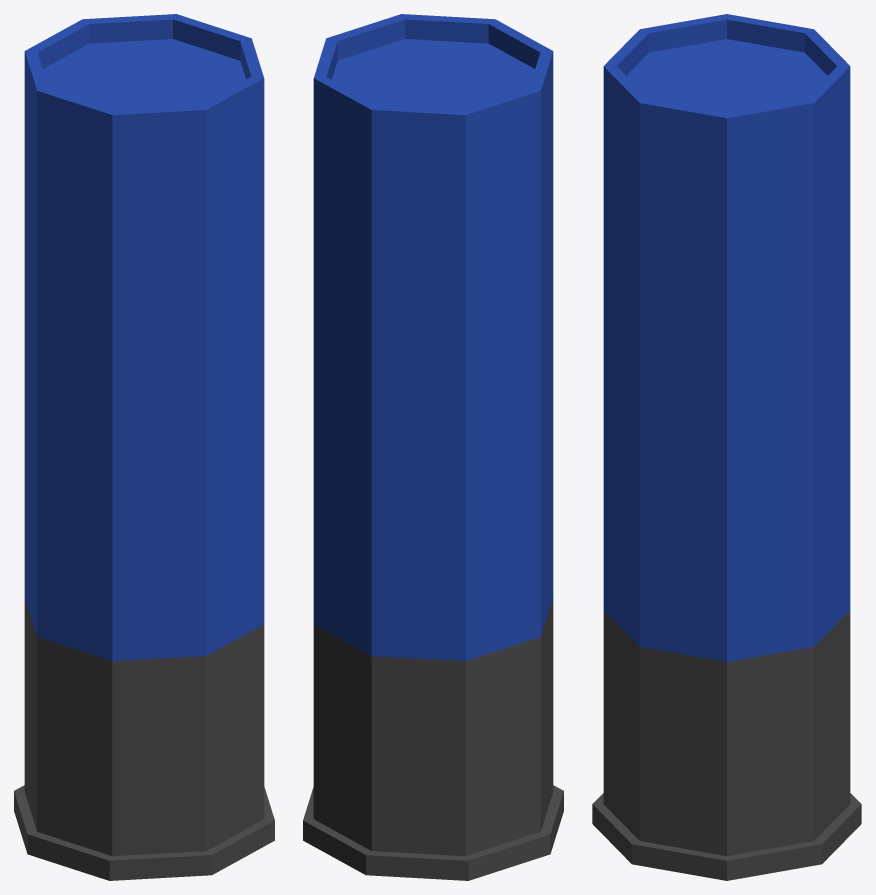
The model's file is 12 Gauge_Blue.glb.
The picture shows the model from 3 angles, left to right: view 1: azimuth 30°, elevation 25°; view 2: azimuth 150°, elevation 25°; view 3: azimuth 270°, elevation 25°; orthographic projection.
Parts seen in each view (by area): view 1: 12 Gauge_Blue; view 2: 12 Gauge_Blue; view 3: 12 Gauge_Blue.
Boxes of the visible parts, <box> form: 12 Gauge_Blue: <box>14,14,274,880</box>; 12 Gauge_Blue: <box>303,14,563,880</box>; 12 Gauge_Blue: <box>592,14,861,880</box>.
Size of the model in its own units: 0.0225 by 0.0698 by 0.0225.
Materials: 1 (1 with a texture image).
